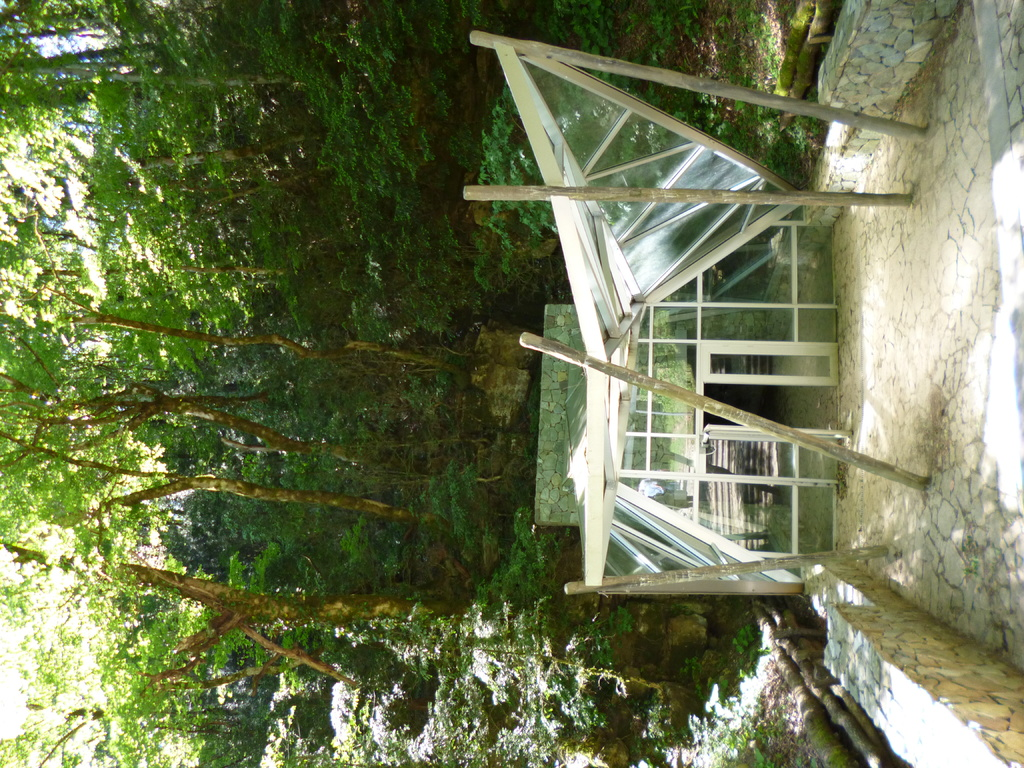Tree: (0, 0, 727, 767)
